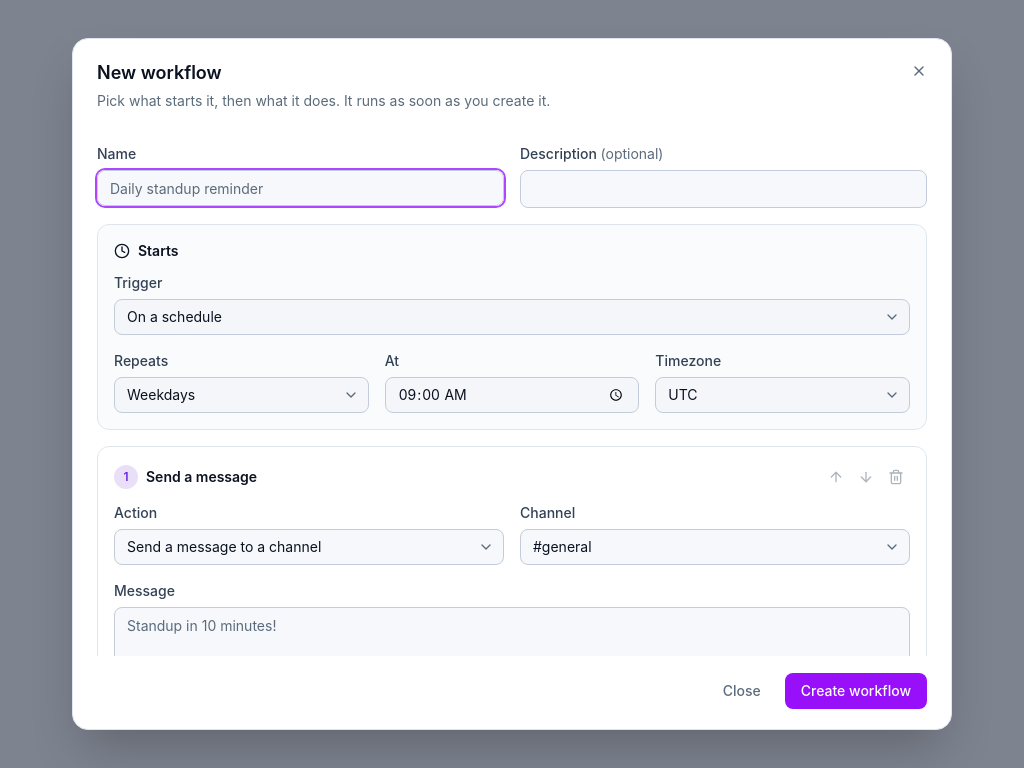
WorkflowEditor › flags a variable name the server would refuse
Select "When a webhook is called" in the dropdown with test id "workflow-trigger-type" at x=512, y=317, box [114,299,910,335]
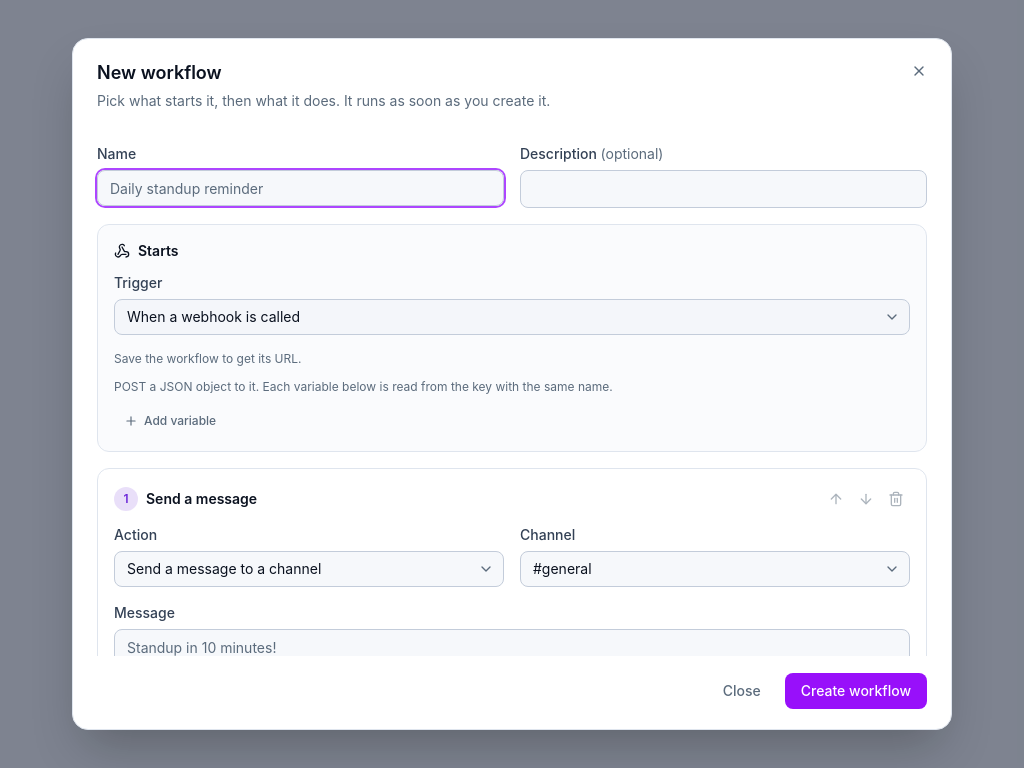
Click the button with test id "workflow-variable-add" at x=170, y=421, box [114,407,226,435]
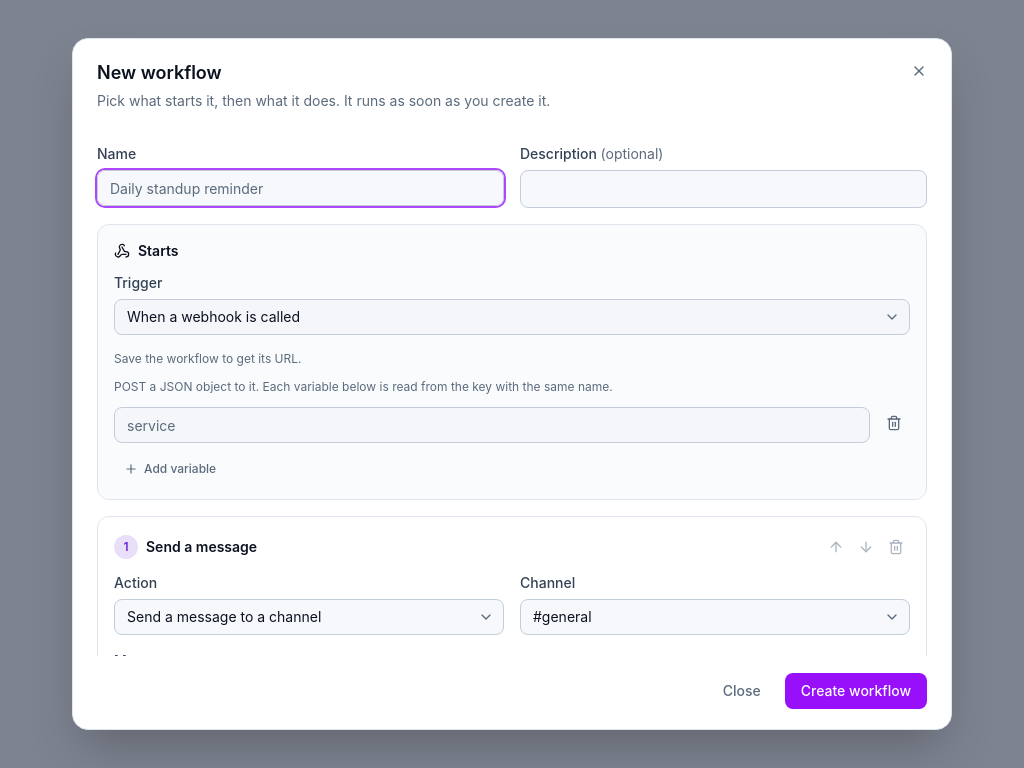
Type "Service" into the field with test id "workflow-variable-name" at x=492, y=425, box [114,407,870,443]
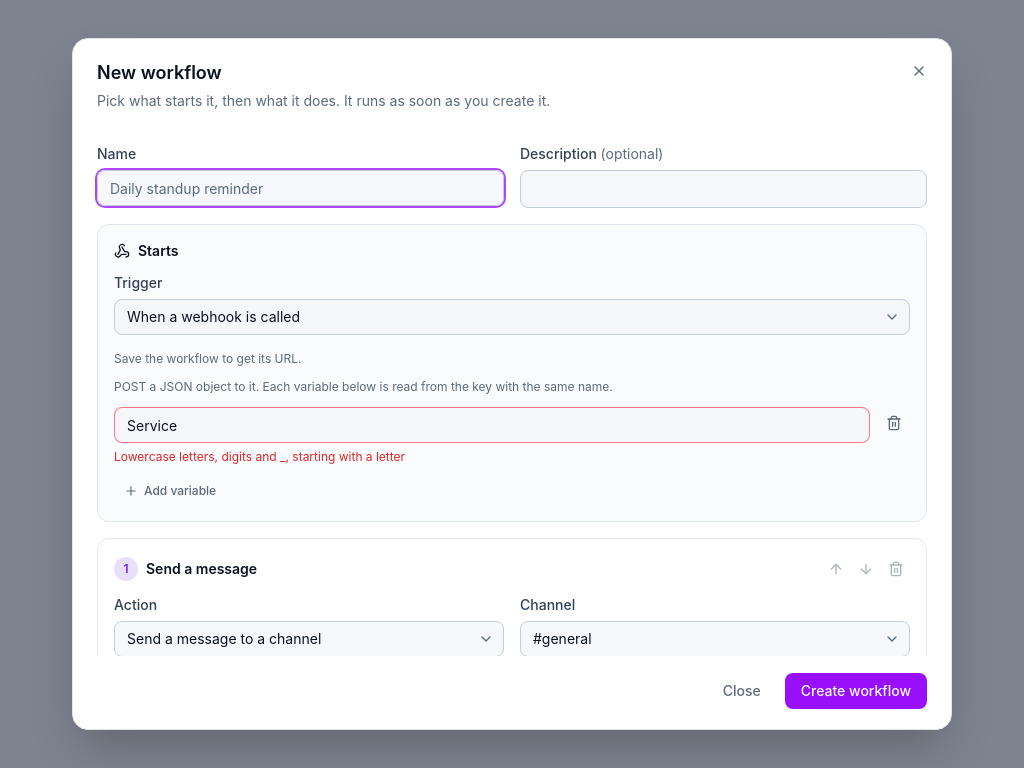
Check: the text "Lowercase letters, digits and _, starting with a letter" is shown, box [114,449,405,464]
